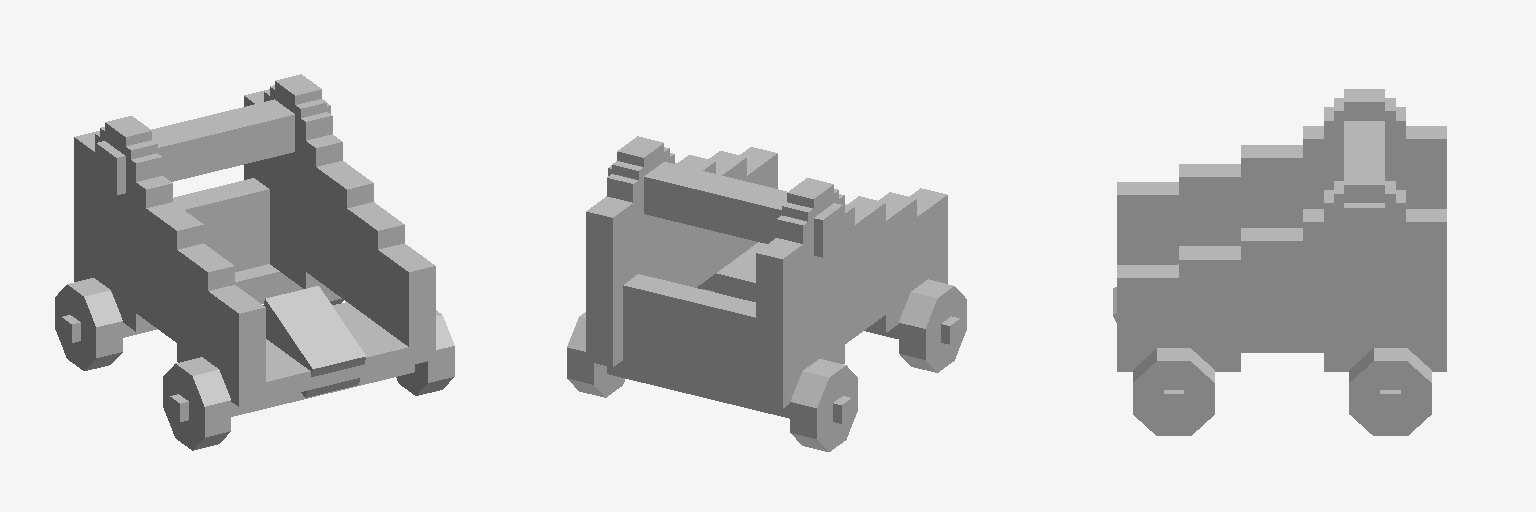
The model's file is complete.obj.
3 views of the same model, side by side, from view 1: azimuth 30°, elevation 25°; view 2: azimuth 150°, elevation 25°; view 3: azimuth 270°, elevation 25° (orthographic).
Visible parts, largest first — view 1: cube024, cube022, cube023, cube015, cube005, cube027, cylinder003, cylinder004, cube026, cube021, cube018, cube020 (+14 smaller); view 2: cube024, cube005, cube022, cube027, cylinder003, cylinder004, cube026, cube021, cube013, cube020, cube023, cube018 (+12 smaller); view 3: cube022, cube024, cylinder001, cylinder002, cube018, cube017, cube021, cube020, cube019, cube016, cube026, cube027 (+8 smaller).
Boxes of the visible parts, <box> form: cube024: <box>74,193,265,388</box>; cube022: <box>244,161,435,346</box>; cube023: <box>177,302,435,406</box>; cube015: <box>263,286,365,397</box>; cube005: <box>173,178,269,271</box>; cube027: <box>96,117,223,194</box>; cylinder003: <box>163,357,230,450</box>; cylinder004: <box>55,278,122,370</box>; cube026: <box>204,99,330,168</box>; cube021: <box>74,175,234,290</box>; cube018: <box>257,157,404,249</box>; cube020: <box>74,156,203,249</box>; cube024: <box>756,188,947,389</box>; cube005: <box>623,274,755,391</box>; cube022: <box>586,147,777,348</box>; cube027: <box>715,179,842,257</box>; cylinder003: <box>899,279,966,372</box>; cylinder004: <box>790,359,857,451</box>; cube026: <box>608,162,734,230</box>; cube021: <box>756,192,916,314</box>; cube013: <box>607,360,789,418</box>; cube020: <box>756,196,885,296</box>; cube023: <box>697,242,947,332</box>; cube018: <box>586,151,746,273</box>; cube022: <box>1117,265,1446,352</box>; cube024: <box>1117,182,1446,264</box>; cylinder001: <box>1349,348,1431,435</box>; cylinder002: <box>1133,348,1214,435</box>; cube018: <box>1179,246,1446,277</box>; cube017: <box>1241,228,1446,259</box>; cube021: <box>1179,164,1446,194</box>; cube020: <box>1241,145,1446,176</box>; cube019: <box>1303,126,1446,157</box>; cube016: <box>1303,209,1446,240</box>; cube026: <box>1344,155,1384,244</box>; cube027: <box>1344,121,1384,154</box>.
Size of the model in its own units: 1.88 by 1.59 by 2.03.